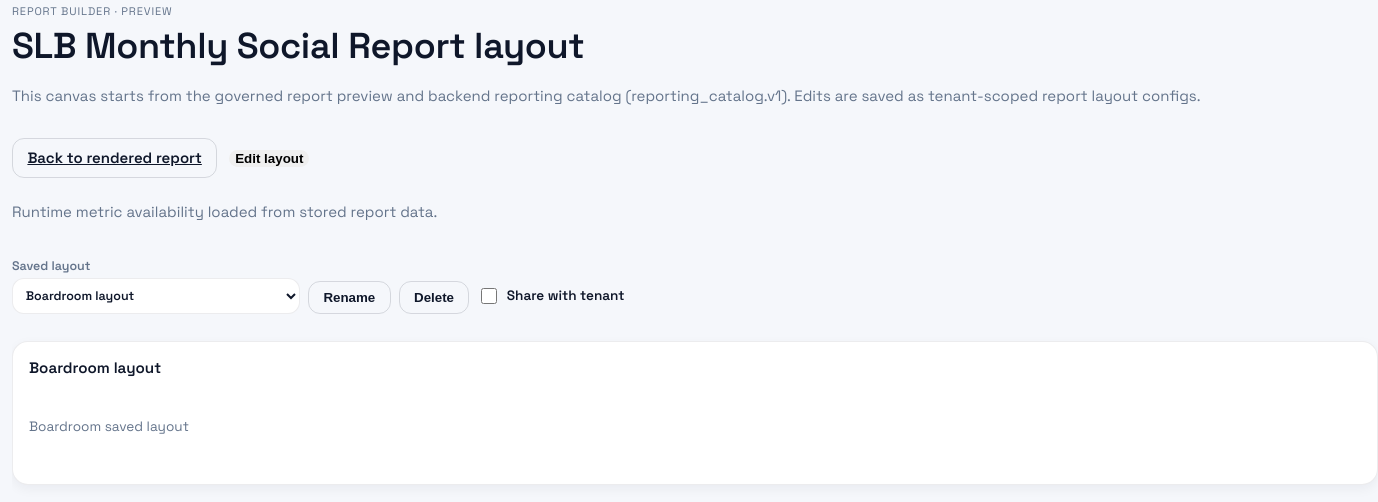
Test: ReportLayoutPreview report builder route › renames and deletes the selected saved layout row
Expected: the text "Boardroom saved layout" is shown, [29,418,189,435]
Step 1. Click the button "Rename" → (349, 298), box [308,281,391,314]
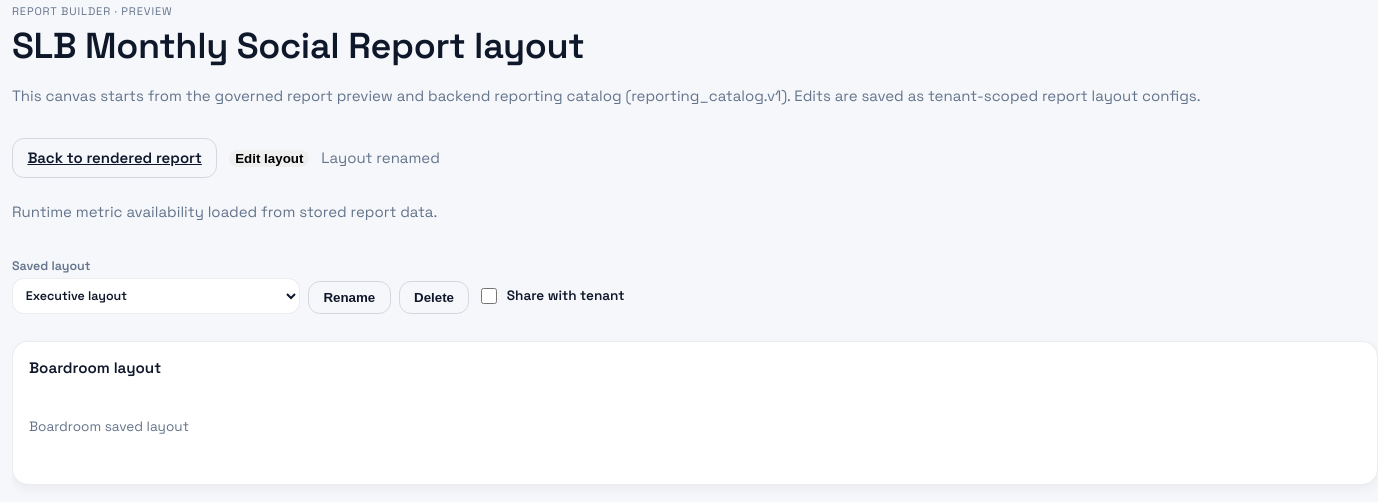
Step 2. Click the button "Delete" → (434, 298), box [399,281,469,314]
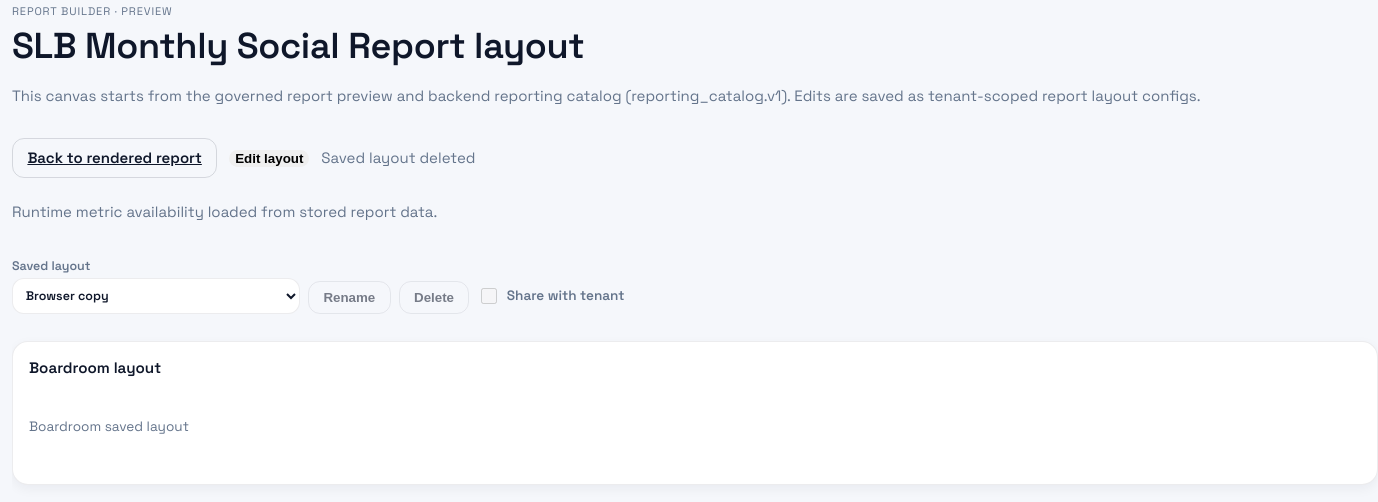
Expected: the option "Executive layout" is not shown
Result: the dropdown labelled "Saved layout" shows "Browser copy" at [12,278,300,314]
Result: the text "Saved layout deleted" is shown at [321,147,476,169]
